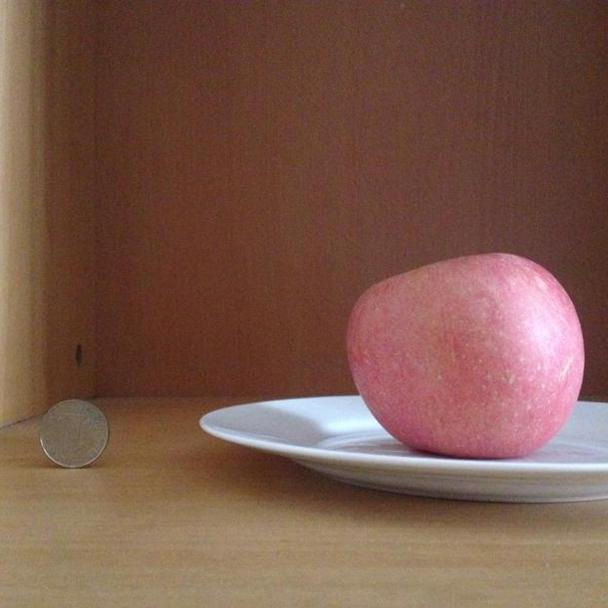apple: (344, 253, 586, 458)
